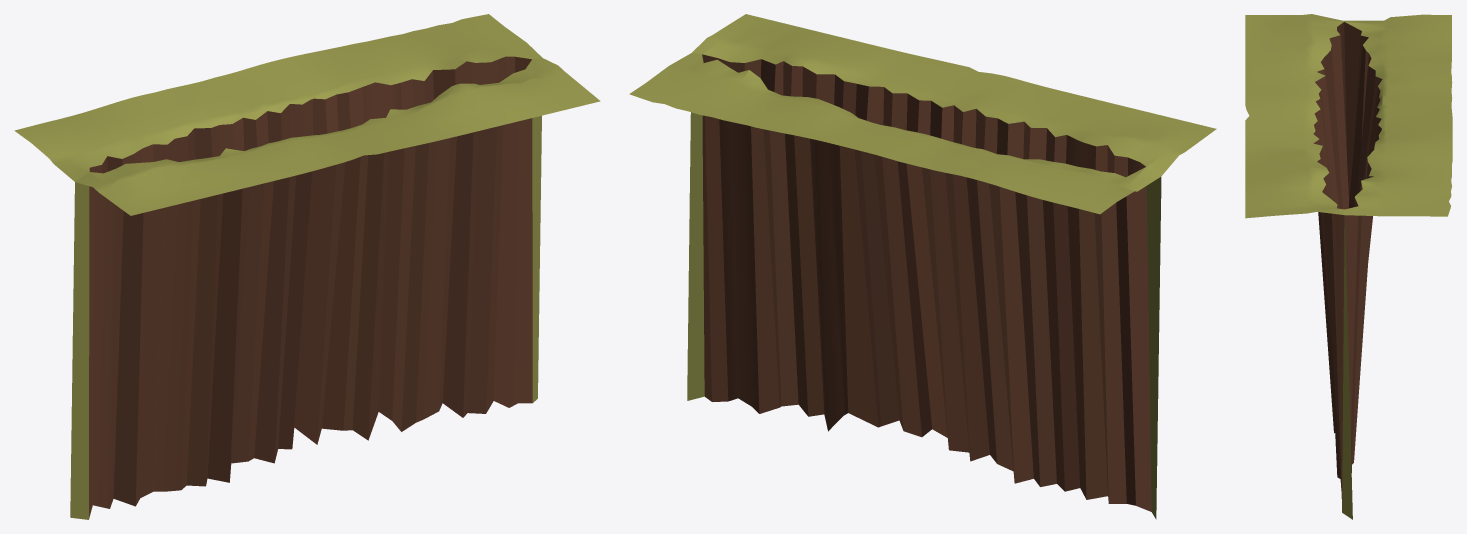
Rendered from Ravine.fbx.
3 views of the same model, side by side, from view 1: azimuth 30°, elevation 25°; view 2: azimuth 150°, elevation 25°; view 3: azimuth 270°, elevation 25° (orthographic). The views are drawn at different scales.
Visible parts, largest first — view 1: Ravine; view 2: Ravine; view 3: Ravine.
Boxes of the visible parts, box(x1,y1,x2,y2) form: Ravine: box(14, 14, 600, 519); Ravine: box(629, 14, 1216, 519); Ravine: box(1245, 14, 1452, 519).
Size of the model in its own units: 3014 by 1294 by 2164.
